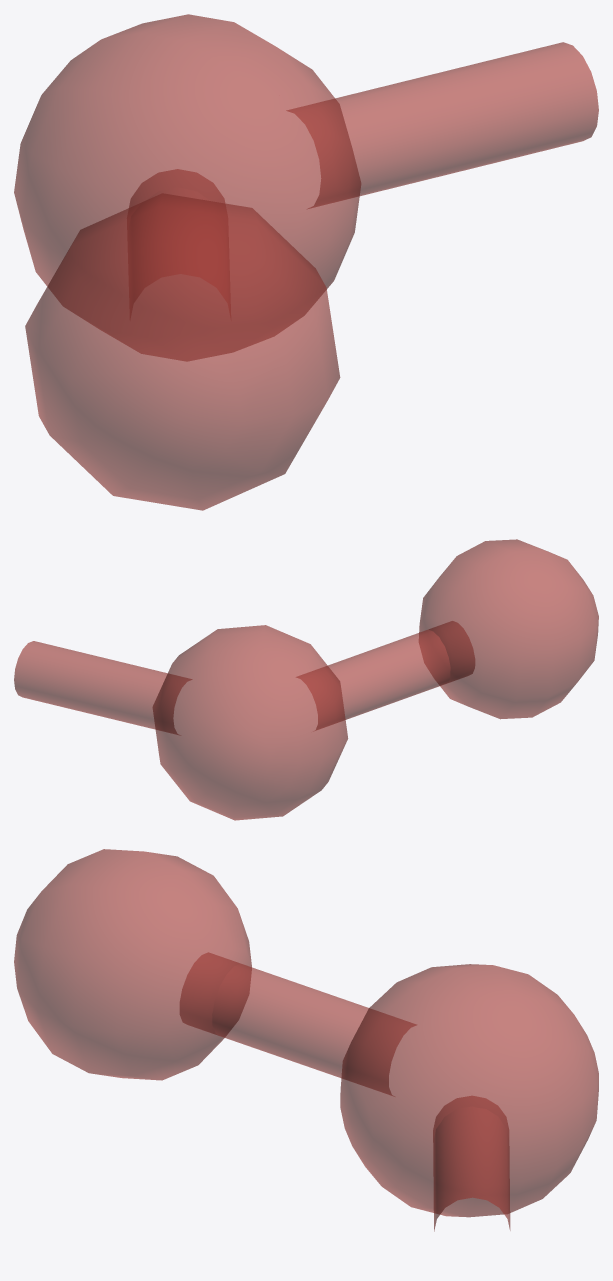
File: Heilight.gltf
3 views of the same model, one above another, from view 1: azimuth 30°, elevation 25°; view 2: azimuth 150°, elevation 25°; view 3: azimuth 270°, elevation 25° (orthographic). The views are drawn at different scales.
Parts seen in each view (by area): view 1: Hydroxy_Grp; view 2: Hydroxy_Grp; view 3: Hydroxy_Grp.
Part boxes in pixels (left/top/right/bottom): Hydroxy_Grp: left=14, top=14, right=598, bottom=510; Hydroxy_Grp: left=14, top=539, right=598, bottom=820; Hydroxy_Grp: left=14, top=849, right=598, bottom=1231.
Size of the model in its own units: 0.5207 by 0.2352 by 0.4666.
